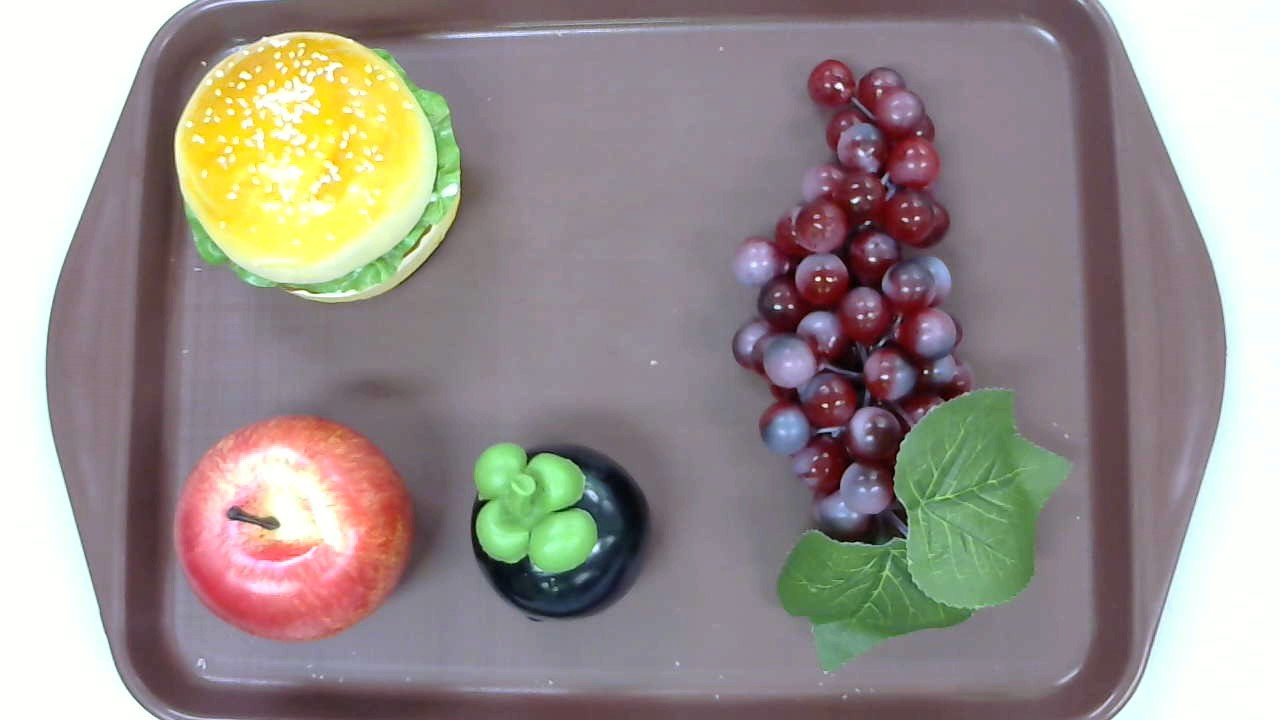grape: (731, 59, 1073, 673)
hamburger: (174, 30, 461, 305)
mangosteen: (469, 440, 652, 623)
red apple: (173, 414, 413, 645)
